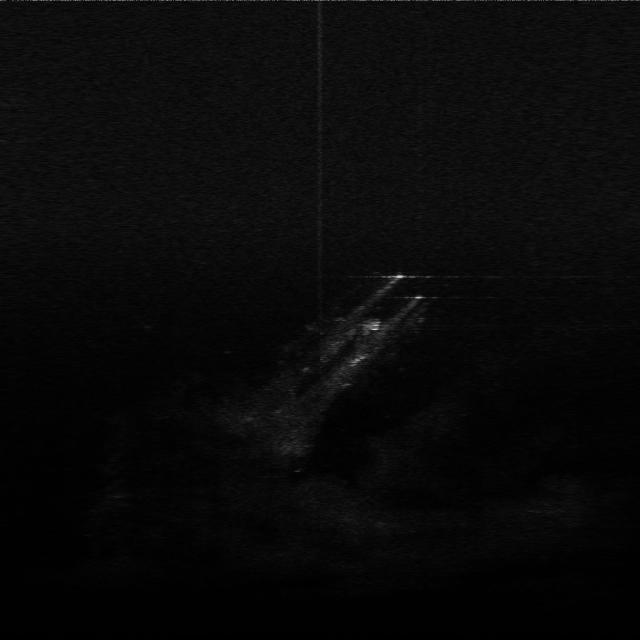rov: (358, 316, 388, 336)
